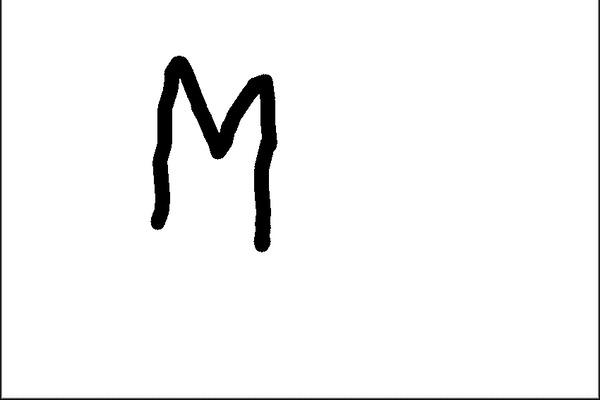M: (150, 50, 276, 254)
